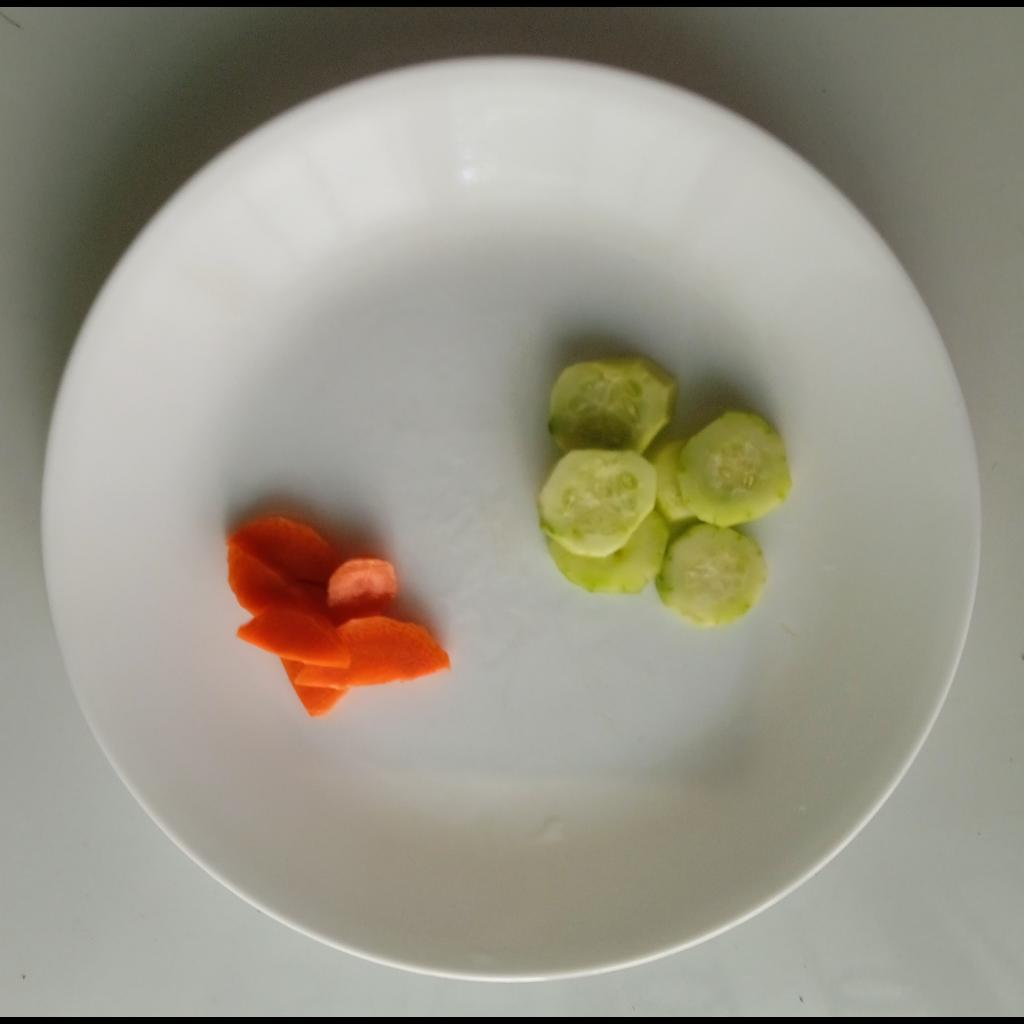carrot: (225, 515, 447, 724)
cucumber: (531, 354, 794, 625)
